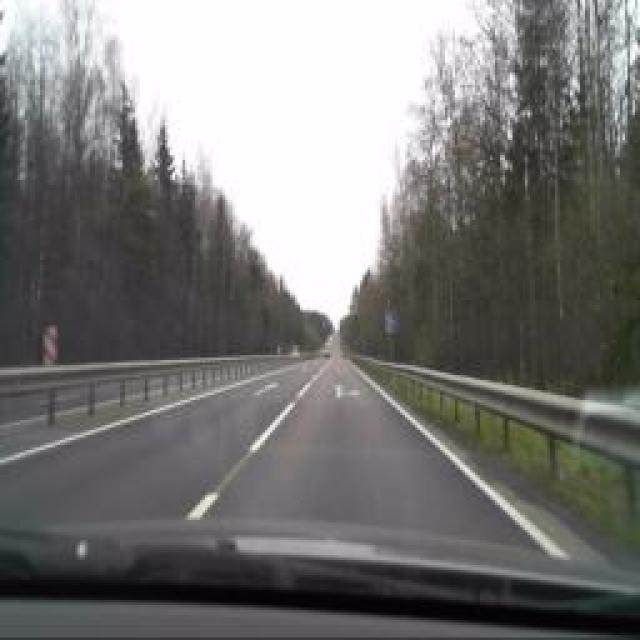sign: (382, 310, 398, 332)
